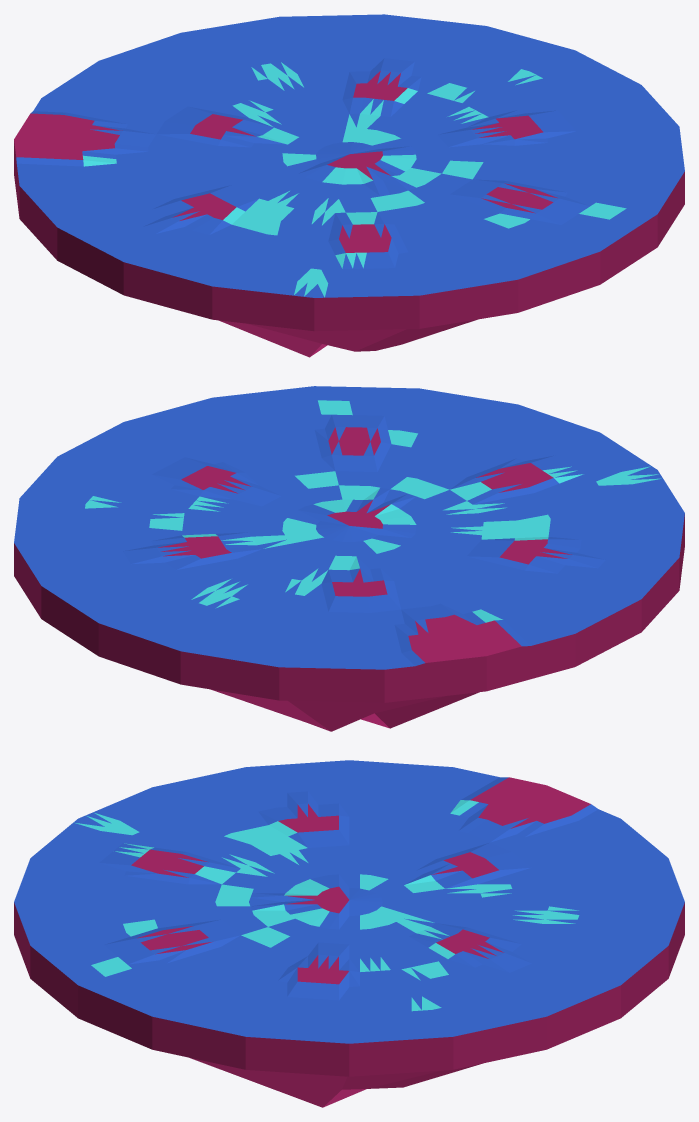
File: island.glb
The picture shows the model from 3 angles, top to bottom: view 1: azimuth 30°, elevation 25°; view 2: azimuth 150°, elevation 25°; view 3: azimuth 270°, elevation 25°; orthographic projection.
Parts seen in each view (by area): view 1: Island; view 2: Island; view 3: Island.
Part boxes in pixels (left/top/right/bottom): Island: left=14, top=14, right=684, bottom=357; Island: left=14, top=386, right=684, bottom=731; Island: left=14, top=760, right=684, bottom=1107.
Size of the model in its own units: 9.2 by 2.91 by 9.2.
